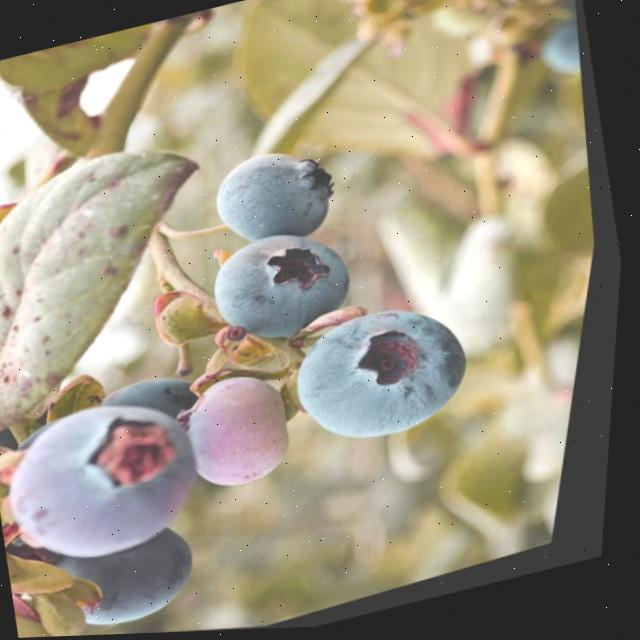RipeBlueBerry: (267, 268, 521, 489), (190, 205, 391, 379), (35, 495, 236, 638), (193, 125, 366, 273), (532, 15, 593, 100)
Semi-RipeBlueBerry: (0, 355, 254, 604), (163, 351, 334, 517)
